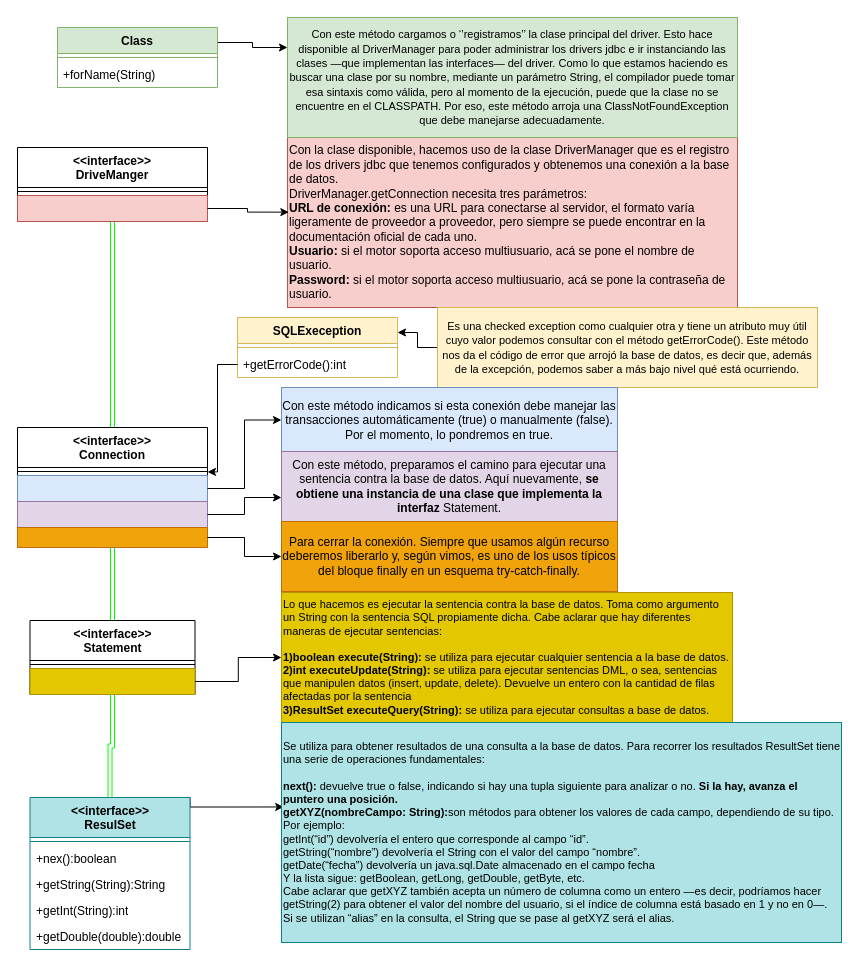
Some shapes in this 859 by 970 pixel diagram are drawn without their labels. Here are the shapes that lost their labels. From the top down, the centre of each, then its label:
At (x=112, y=208): "+getConnection():Connection".
At (x=112, y=488): "+setAutoCommit(boolean)".
At (x=112, y=514): "+createStatement():Statement".
At (x=112, y=537): "+close()".
At (x=112, y=681): "+execute(String):ResultSet".
